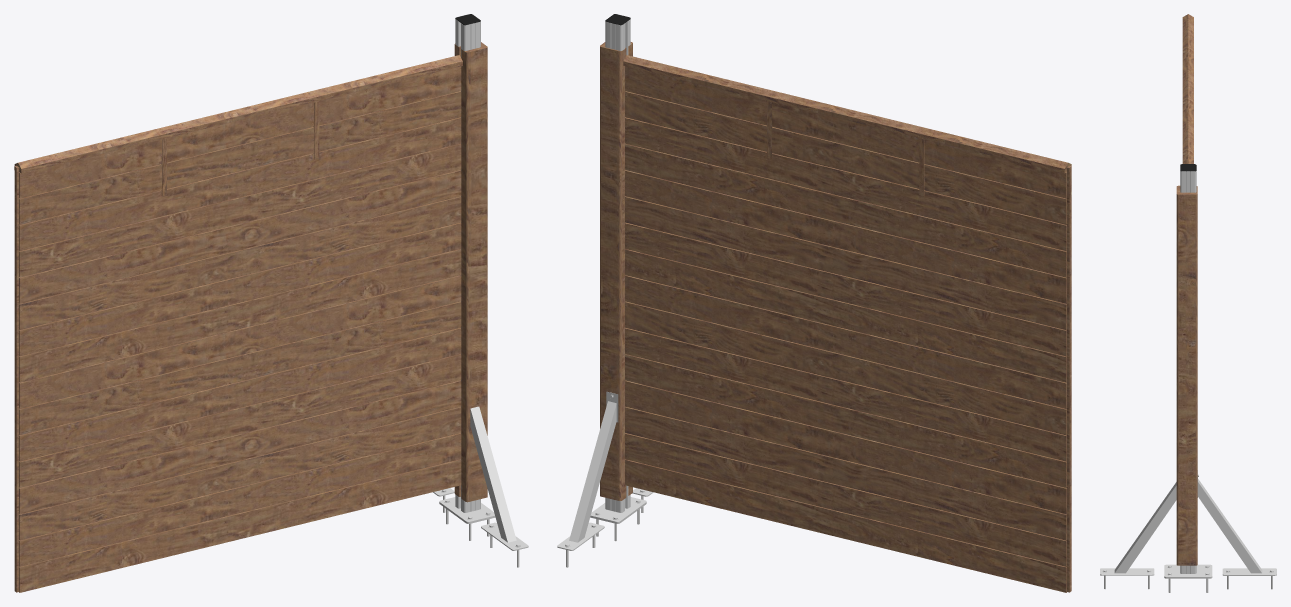
The model's file is gardoRight.glb.
The picture shows the model from 3 angles, left to right: view 1: azimuth 30°, elevation 25°; view 2: azimuth 150°, elevation 25°; view 3: azimuth 270°, elevation 25°; orthographic projection. The views are drawn at different scales.
Visible parts, largest first — view 1: Drvena 8kom dole.012, Drvena 8kom dole.004, Drvena 8kom dole.006, Drvena 8kom dole.010, Drvena 8kom dole.002, Drvena 8kom dole.007, Drvena 8kom dole.003, Drvena 8kom dole.009, Drvena 8kom dole.011, Drvena 8kom dole.013, Drvena 8kom dole.001, Drvena 8kom dole.005 (+10 smaller); view 2: Drvena 8kom dole.004, Drvena 8kom dole.012, Drvena 8kom dole.010, Drvena 8kom dole.002, Drvena 8kom dole.006, Drvena 8kom dole.003, Drvena 8kom dole.007, Drvena 8kom dole.011, Drvena 8kom dole.001, Drvena 8kom dole.013, Drvena 8kom dole.005, Drvena 8kom dole.009 (+10 smaller); view 3: Wooden post, Poklopac gore, sturmanker-right-rear, sturmanker-right-front, post-root-right, post-right.
Boxes of the visible parts, x1,y1,x2,y2 form: Drvena 8kom dole.012: [14, 169, 461, 303]; Drvena 8kom dole.004: [14, 380, 461, 513]; Drvena 8kom dole.006: [14, 327, 461, 461]; Drvena 8kom dole.010: [14, 222, 461, 355]; Drvena 8kom dole.002: [14, 433, 461, 566]; Drvena 8kom dole.007: [14, 301, 461, 434]; Drvena 8kom dole.003: [14, 406, 461, 540]; Drvena 8kom dole.009: [14, 248, 461, 382]; Drvena 8kom dole.011: [14, 196, 461, 329]; Drvena 8kom dole.013: [14, 143, 461, 277]; Drvena 8kom dole.001: [14, 459, 461, 592]; Drvena 8kom dole.005: [14, 354, 461, 487]; Drvena 8kom dole.004: [625, 380, 1071, 513]; Drvena 8kom dole.012: [625, 170, 1071, 303]; Drvena 8kom dole.010: [625, 222, 1071, 356]; Drvena 8kom dole.002: [625, 433, 1071, 566]; Drvena 8kom dole.006: [625, 327, 1071, 461]; Drvena 8kom dole.003: [625, 406, 1071, 540]; Drvena 8kom dole.007: [625, 301, 1071, 434]; Drvena 8kom dole.011: [625, 196, 1071, 329]; Drvena 8kom dole.001: [625, 459, 1071, 592]; Drvena 8kom dole.013: [625, 143, 1071, 277]; Drvena 8kom dole.005: [625, 354, 1071, 487]; Drvena 8kom dole.009: [625, 249, 1071, 382]; Wooden post: [1176, 185, 1197, 565]; Poklopac gore: [1182, 14, 1193, 163]; sturmanker-right-rear: [1197, 470, 1276, 589]; sturmanker-right-front: [1100, 482, 1176, 589]; post-root-right: [1164, 564, 1212, 592]; post-right: [1180, 171, 1196, 573].
Bounding box in the file's own units: 1.91 × 1.99 × 0.7571.
6 materials, 1 textured.
